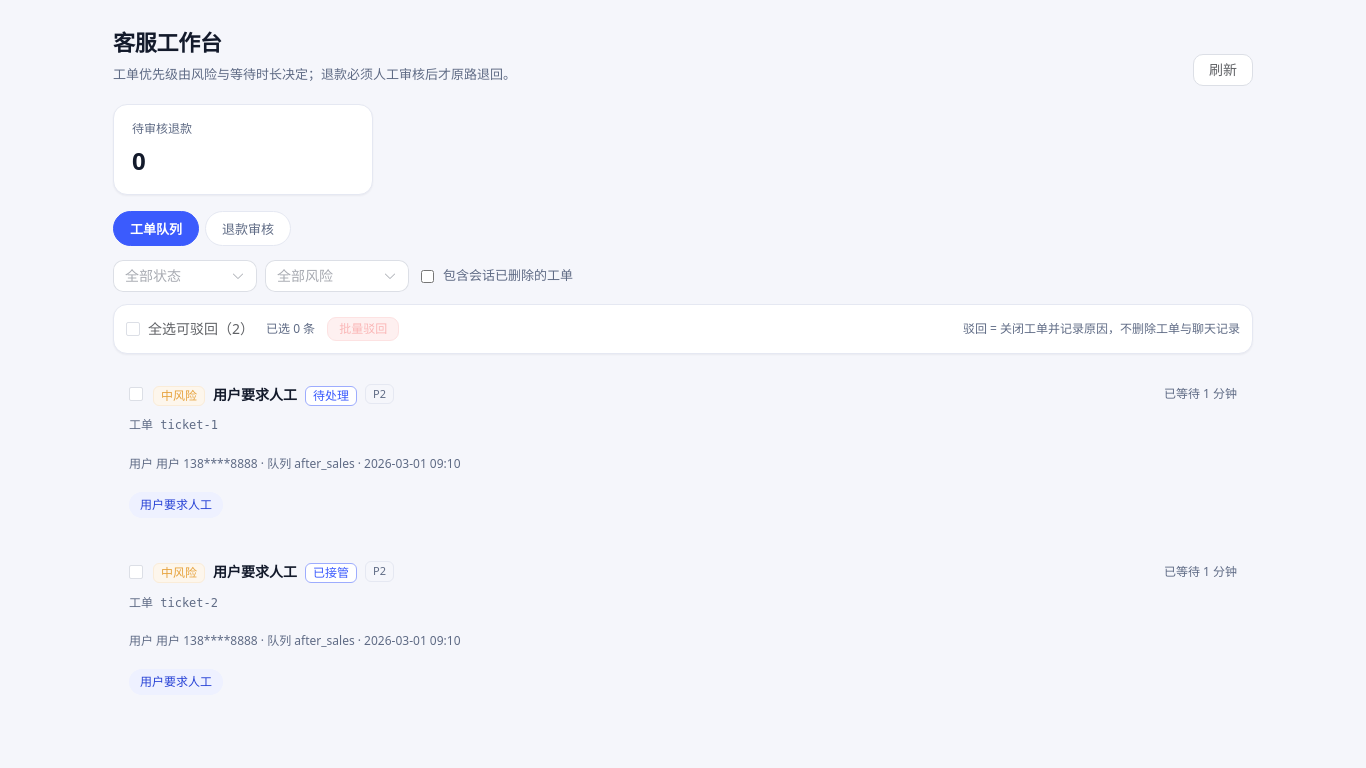
it: SupportTicketsView（工单队列） › 多选后一次性驳回：逐条提交关闭原因，成功后清空选择并刷新
The width and height of the screenshot is (1366, 768).
Click the checkbox named "选择此工单用于批量驳回" at (136, 394), box [129,387,143,401]
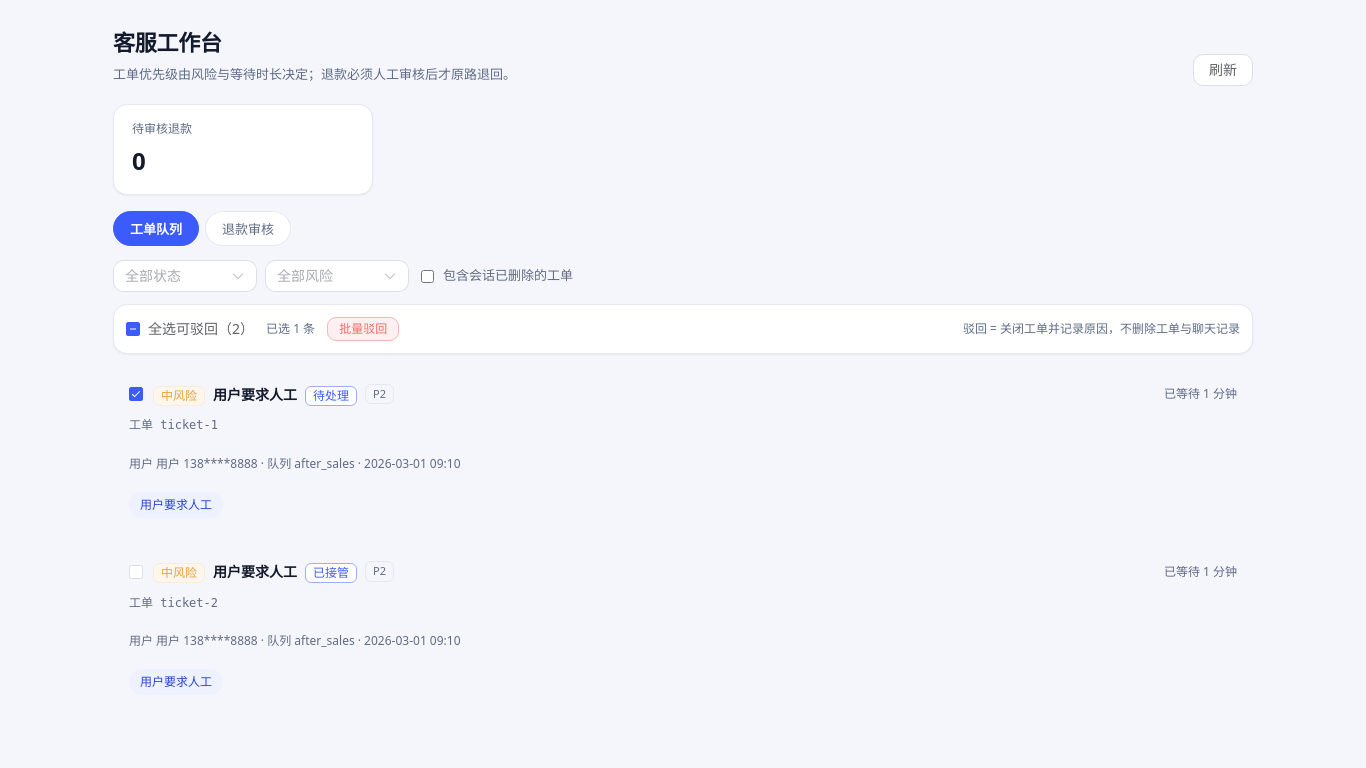
Click the checkbox named "选择此工单用于批量驳回" at (136, 572), box [129,564,143,578]
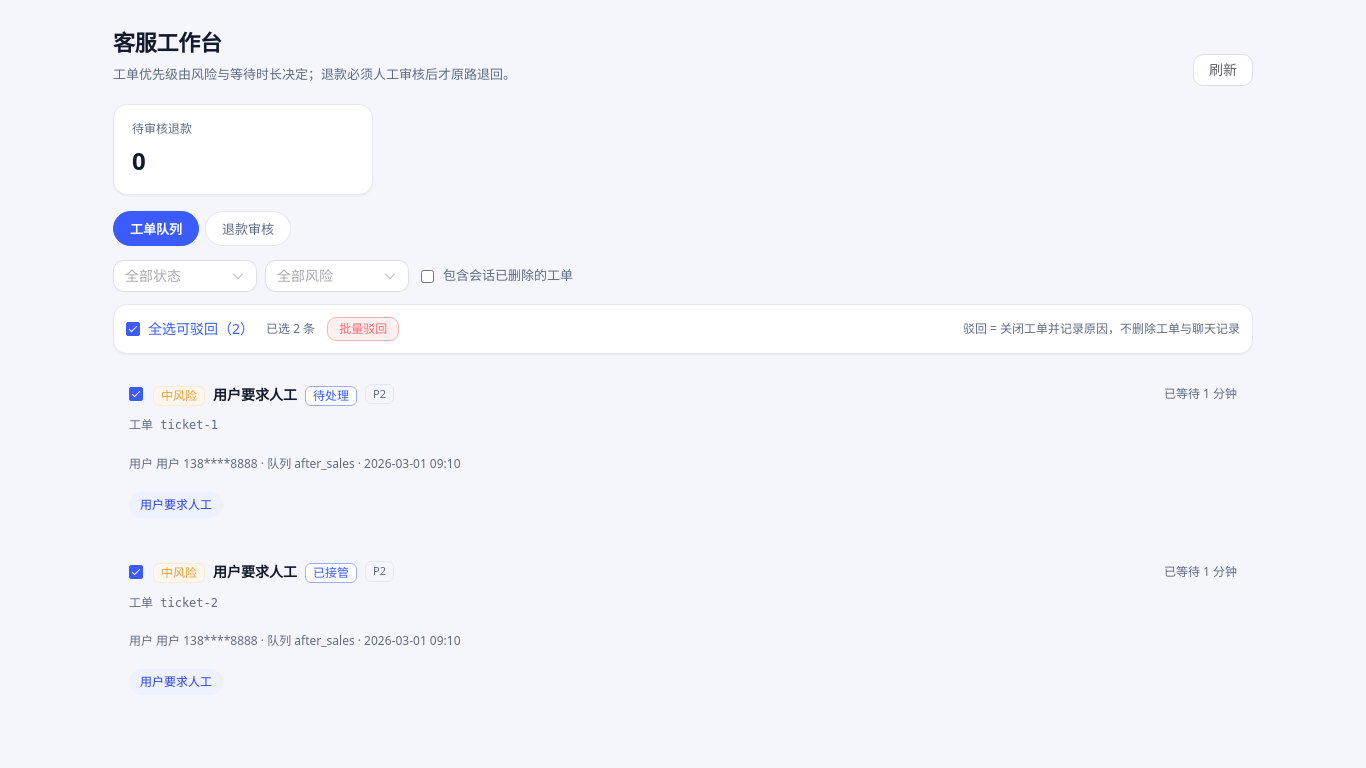
Now the text "已选 2 条" is shown, box [266,319,315,339]
Click the button "批量驳回" at (363, 329), box [327,317,399,341]
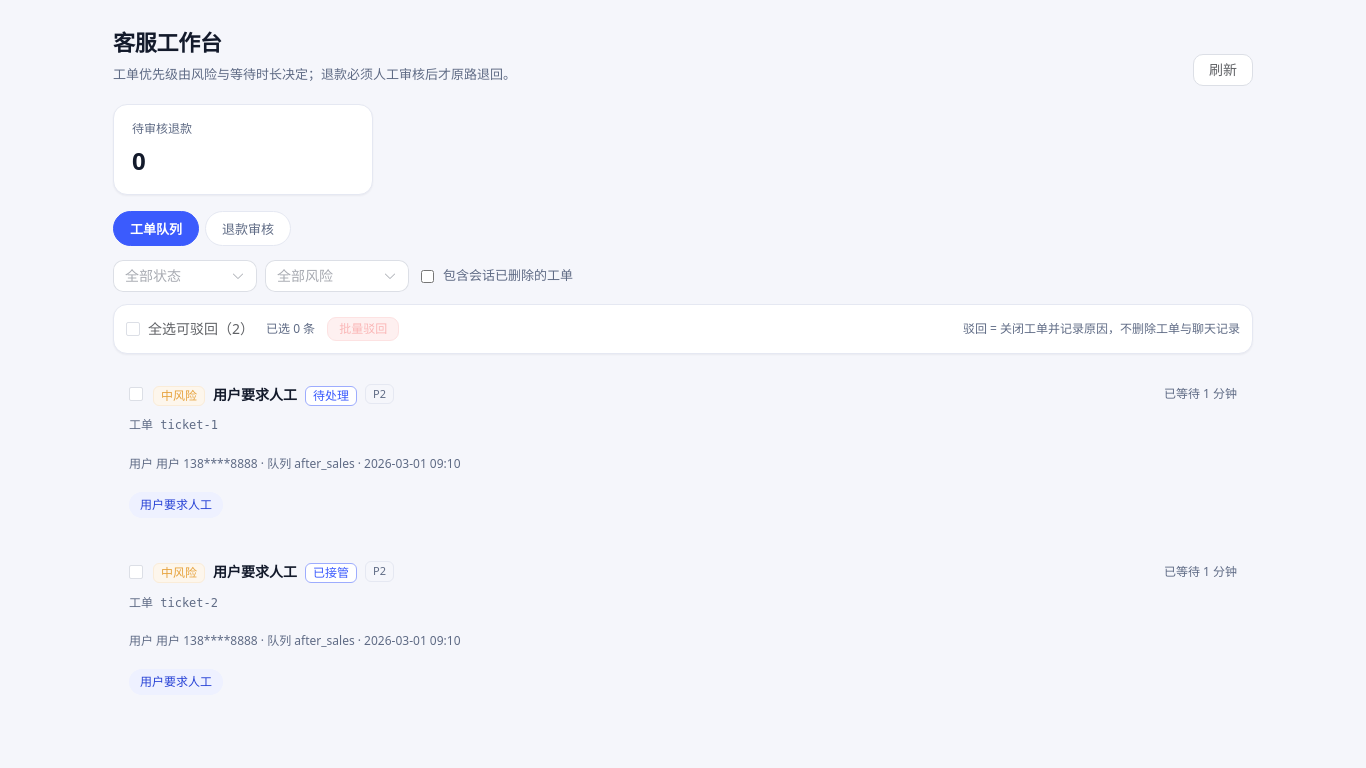
Now the text "已选 2 条" is gone
